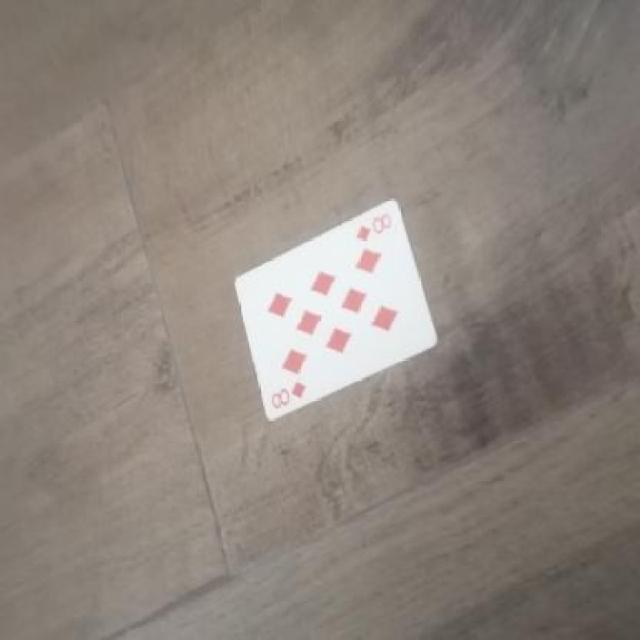8D: (268, 376, 314, 416), (353, 213, 398, 252)
